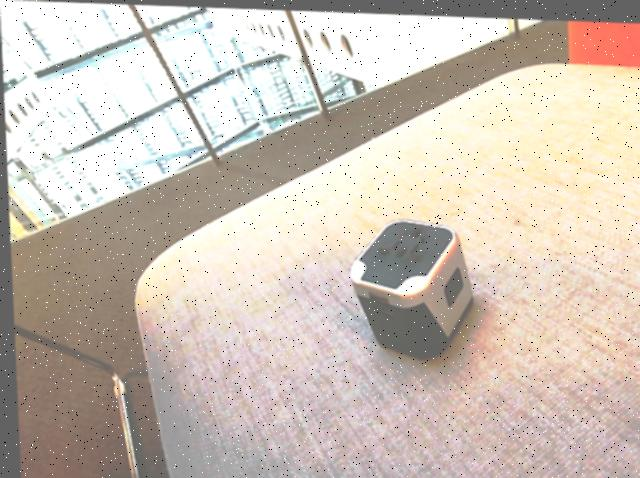adapter: (345, 213, 472, 358)
